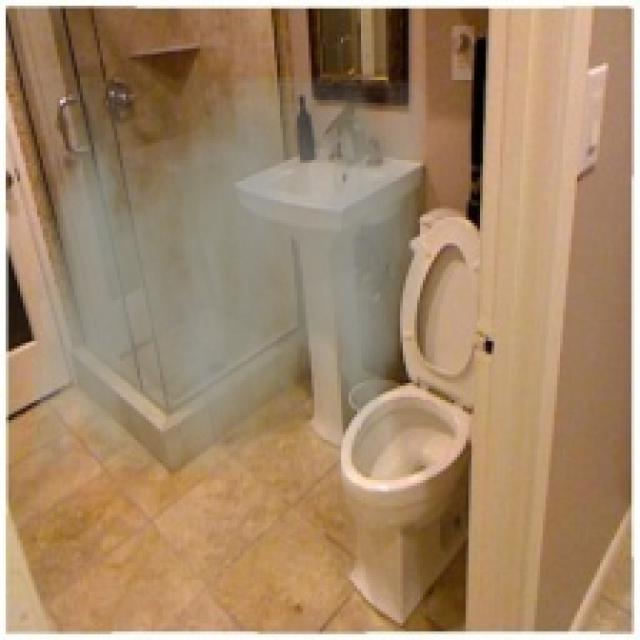smoke: (31, 77, 426, 474)
